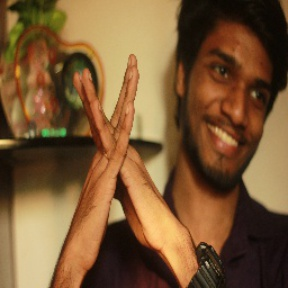W: (58, 50, 181, 258)
